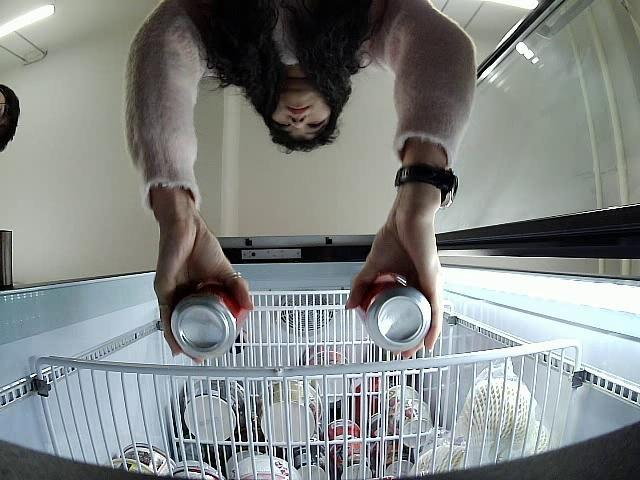11_cocaColaZero: (355, 274, 434, 350), (169, 284, 250, 358)
